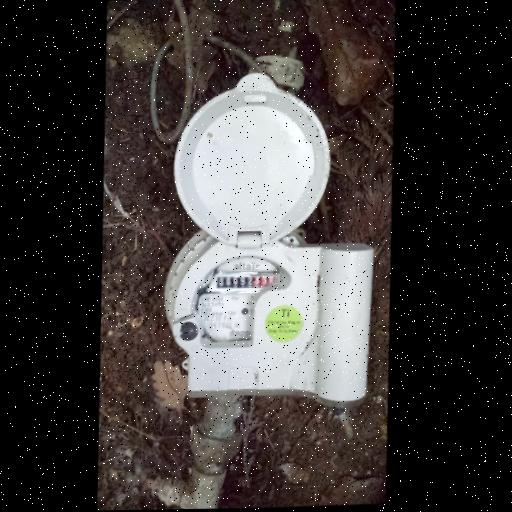0: (217, 276, 225, 288), (225, 276, 233, 288)
2: (247, 276, 253, 288)
3: (261, 275, 269, 287)
5: (268, 275, 276, 285)
6: (232, 276, 240, 288)
8: (253, 276, 261, 288)
9: (239, 276, 247, 288)
border_water_meter_number: (211, 270, 278, 295)
